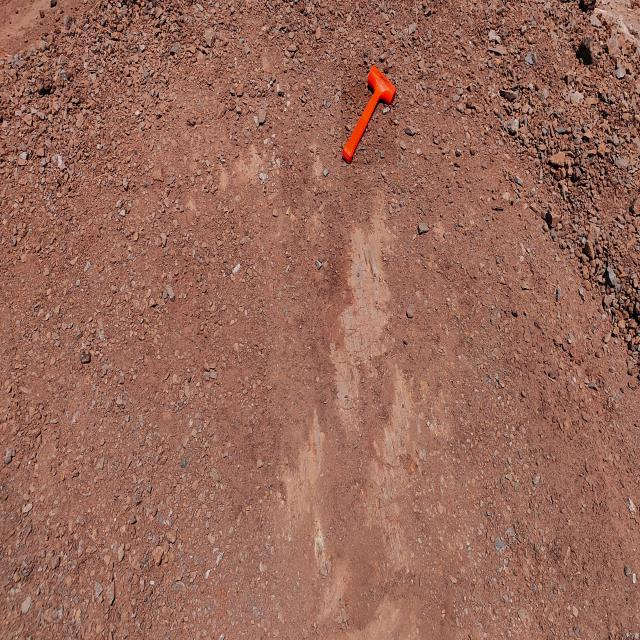Orange_hammer: (341, 64, 396, 165)
